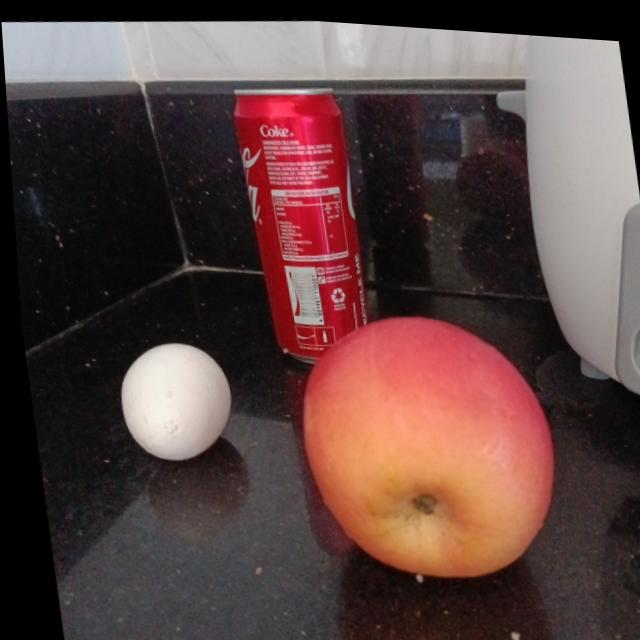apple: (286, 299, 560, 582)
coke: (227, 78, 369, 361)
egg: (109, 334, 235, 465)
